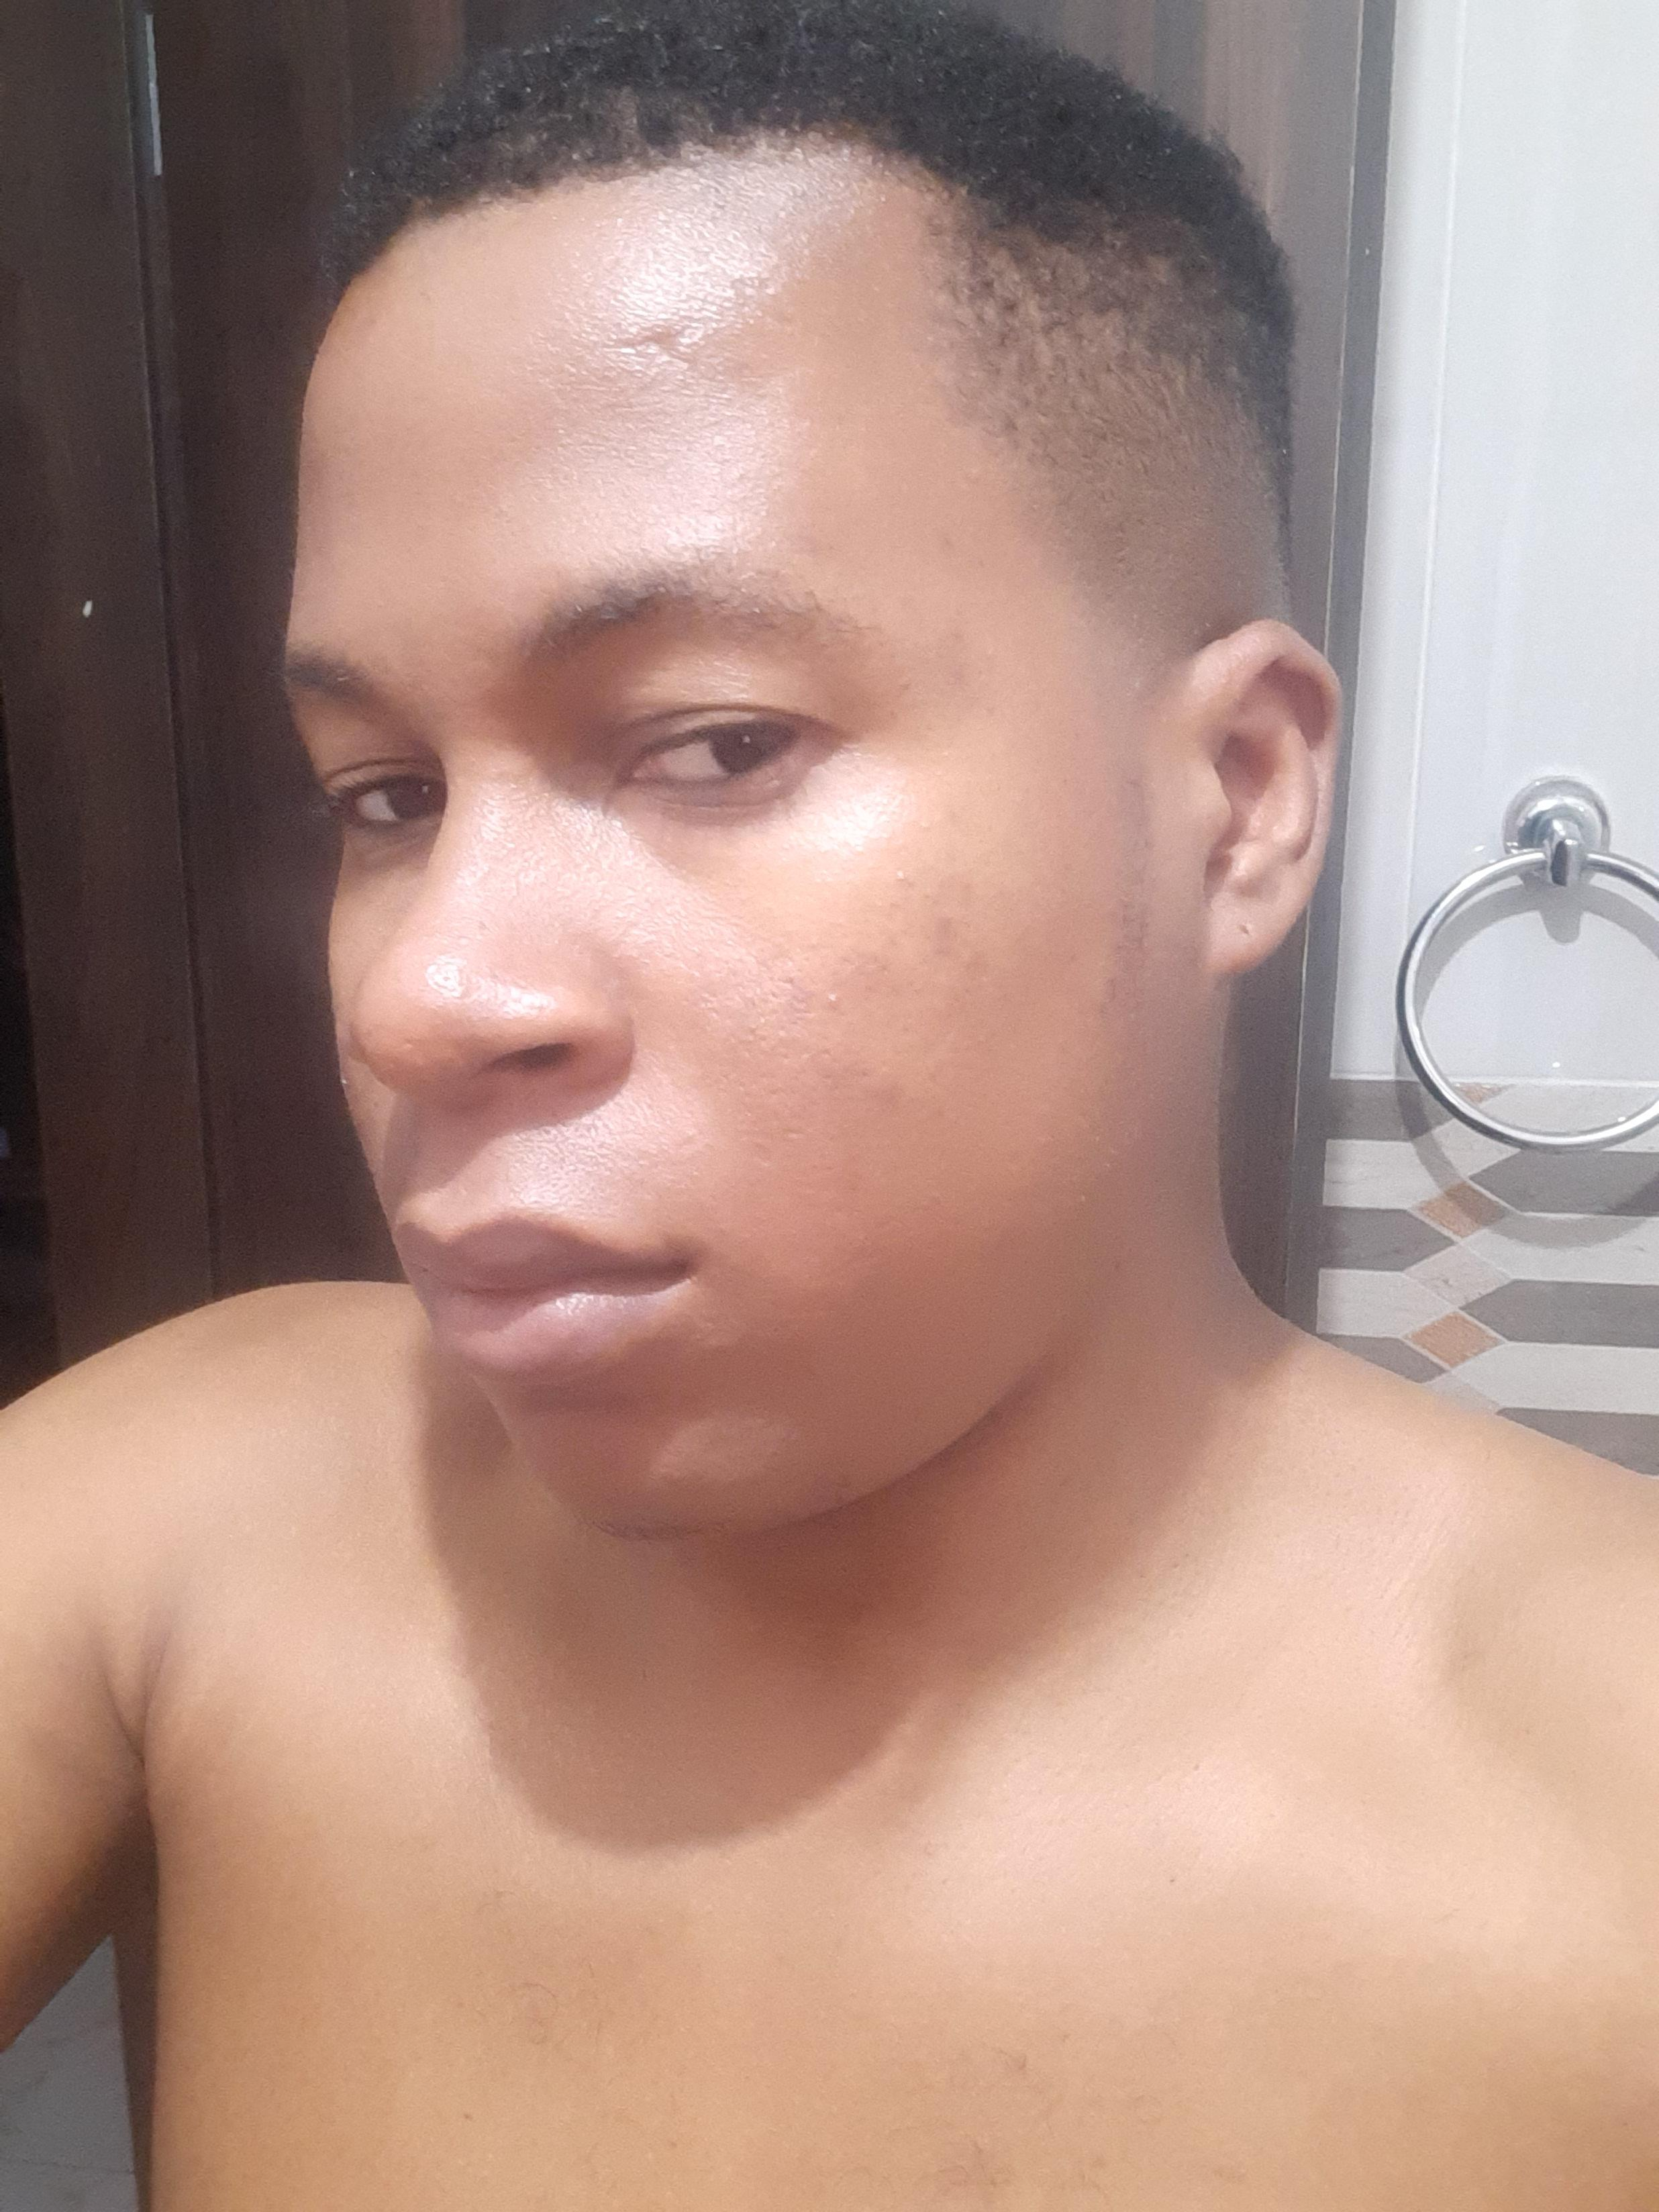Acne: (856, 1061, 917, 1116), (838, 944, 903, 982), (953, 937, 992, 981), (922, 904, 962, 942), (931, 521, 964, 557), (878, 852, 910, 887), (823, 979, 854, 1003), (910, 812, 934, 834)
Englarged-Pores: (662, 897, 812, 1075), (369, 1010, 448, 1083)
